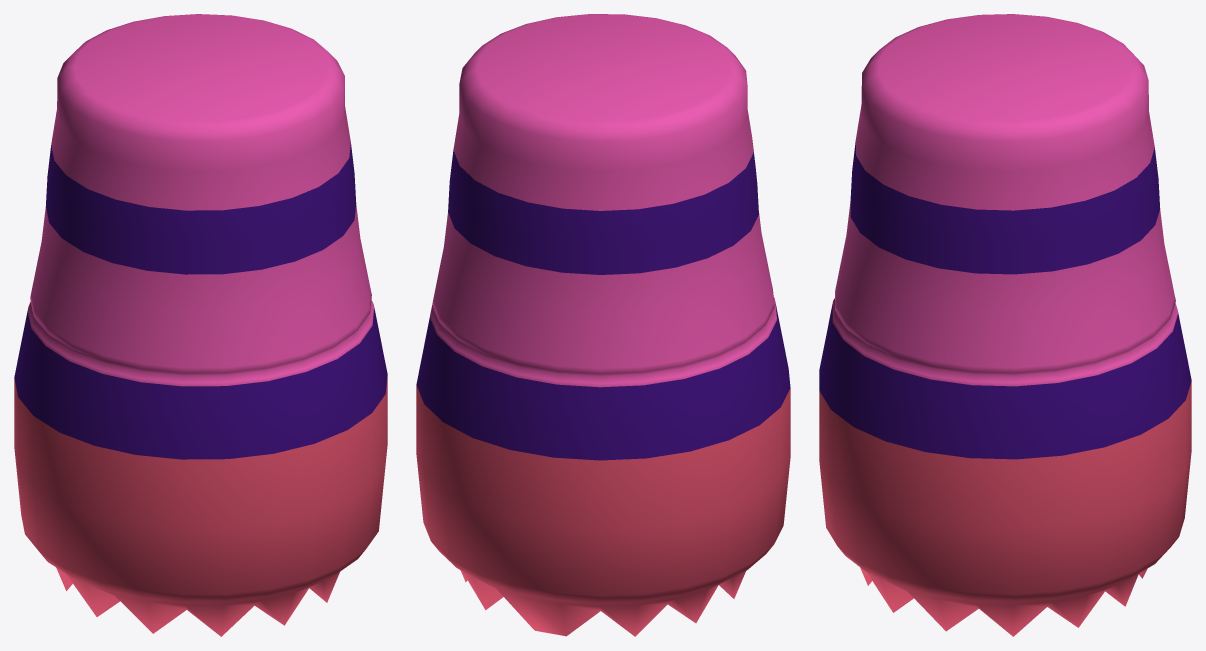
File: engine.fbx
3 views of the same model, side by side, from view 1: azimuth 30°, elevation 25°; view 2: azimuth 150°, elevation 25°; view 3: azimuth 270°, elevation 25° (orthographic).
Visible parts, largest first — view 1: Cylinder.005; view 2: Cylinder.005; view 3: Cylinder.005.
Boxes of the visible parts, bbox=[...] form: Cylinder.005: bbox=[14, 14, 387, 636]; Cylinder.005: bbox=[416, 14, 790, 636]; Cylinder.005: bbox=[819, 14, 1191, 636].
Size of the model in its own units: 212 by 320 by 211.
